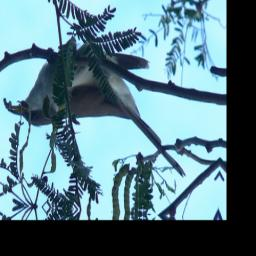Cuckoo: (2, 29, 195, 181)
